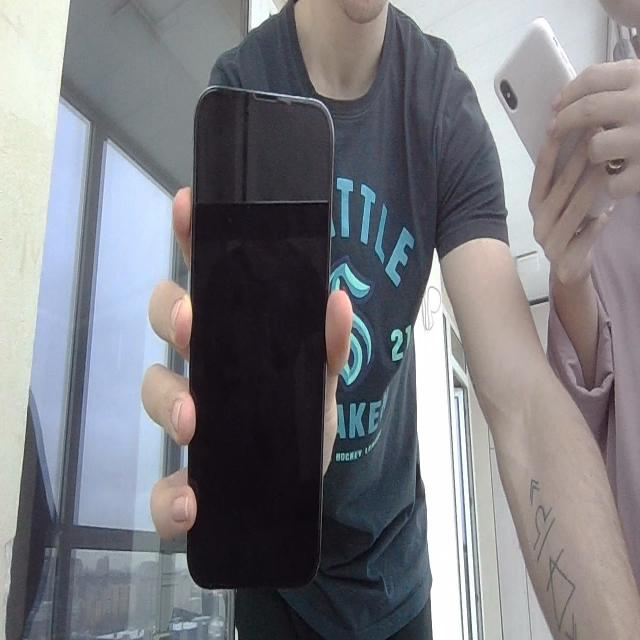device: (183, 84, 341, 596)
